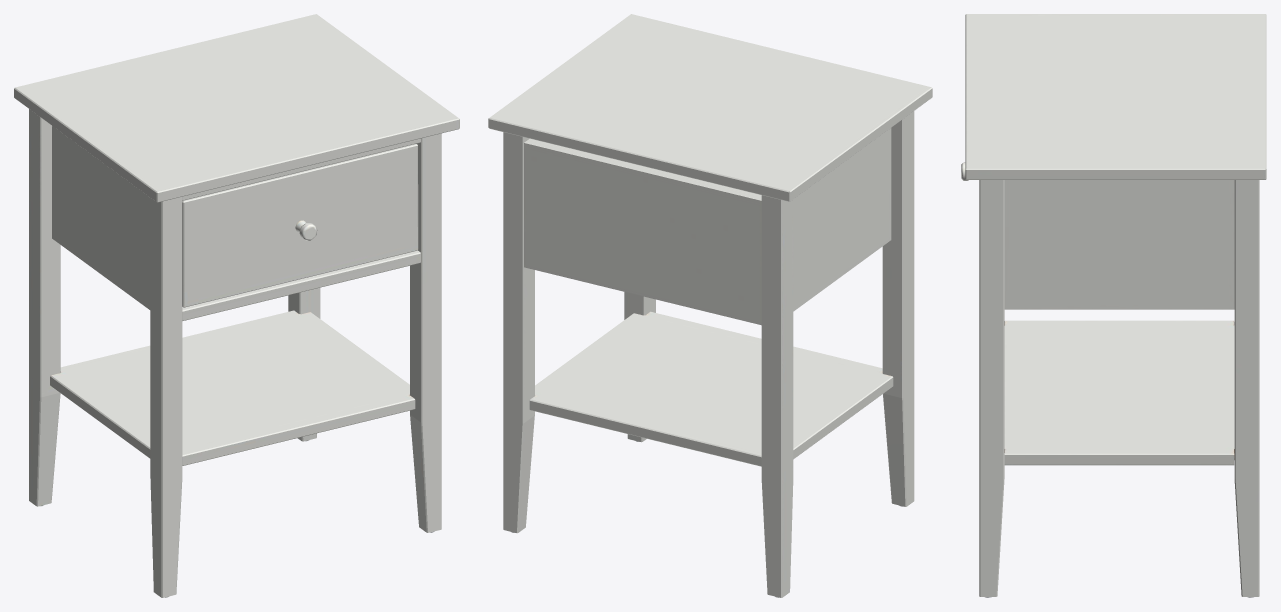
The model's file is gullaberg_stolik_nocny_20561740.glb.
3 views of the same model, side by side, from view 1: azimuth 30°, elevation 25°; view 2: azimuth 150°, elevation 25°; view 3: azimuth 270°, elevation 25° (orthographic). The views are drawn at different scales.
Parts seen in each view (by area): view 1: gullaberg_stolik_nocny_20561740; view 2: gullaberg_stolik_nocny_20561740; view 3: gullaberg_stolik_nocny_20561740.
Boxes of the visible parts, left/top/right/bottom form: gullaberg_stolik_nocny_20561740: left=14, top=14, right=459, bottom=597; gullaberg_stolik_nocny_20561740: left=488, top=14, right=932, bottom=597; gullaberg_stolik_nocny_20561740: left=961, top=14, right=1266, bottom=597.
Bounding box in the file's own units: 0.526 × 0.69 × 0.4368.
Materials: 2 (2 with a texture image).
